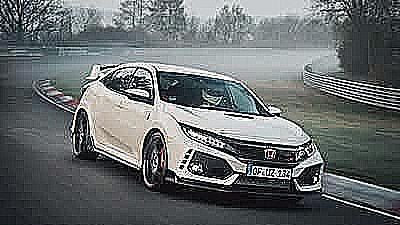Car hood: (161, 101, 312, 147)
Driver-s door - -F-R-: (120, 61, 153, 162)
Fender - -F-R-: (132, 106, 180, 175)
Front bumper: (165, 146, 325, 195)
Headlight - -L-: (295, 140, 320, 162)
Headlight - -R-: (179, 122, 242, 157)
Passenger-s door - -R-R-: (95, 58, 119, 154)
Side bumper - -R-: (91, 138, 142, 179)
Side mirror - -L-: (263, 103, 285, 119)
Side mirror - -R-: (122, 81, 151, 109)
